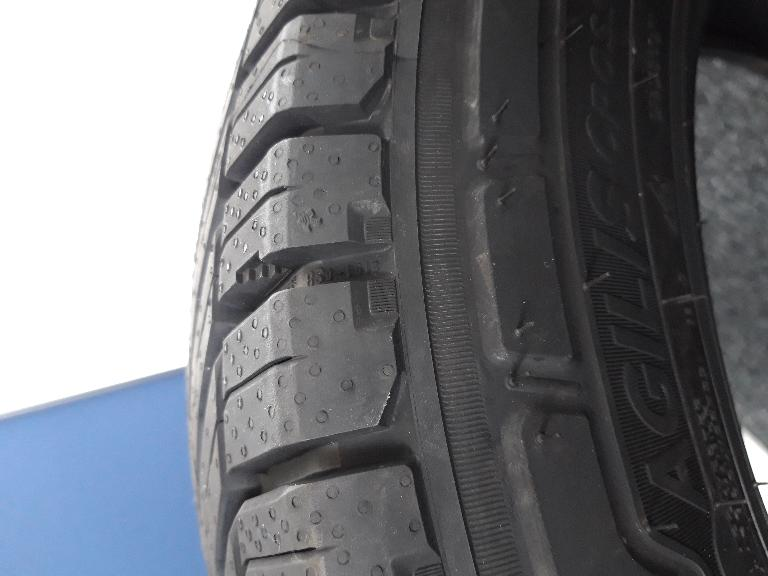temoin:100: (229, 249, 296, 298)
